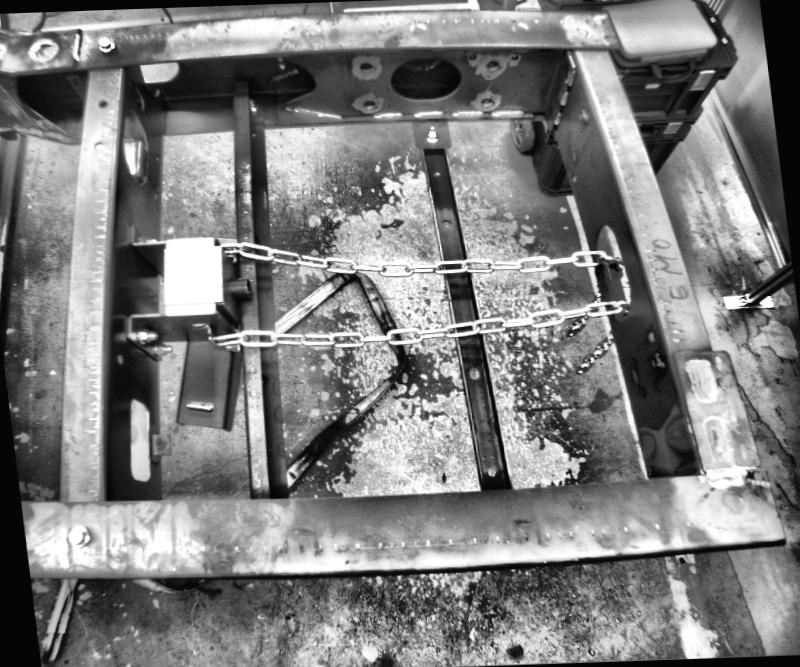bolt: (90, 29, 118, 55), (132, 326, 158, 343), (648, 351, 668, 371), (242, 95, 262, 111), (150, 340, 171, 355), (423, 121, 437, 141), (138, 231, 156, 245), (578, 109, 588, 123)
bracket: (590, 251, 616, 298), (146, 430, 172, 461)
hole: (382, 53, 466, 102), (118, 391, 152, 485), (118, 109, 150, 189), (130, 54, 186, 85), (353, 57, 374, 73), (361, 97, 377, 111), (482, 59, 499, 72), (478, 94, 494, 105), (466, 365, 479, 378), (438, 217, 450, 229), (113, 350, 124, 363), (485, 466, 497, 477), (90, 140, 102, 150), (644, 330, 656, 340), (95, 96, 106, 106), (431, 169, 440, 177), (154, 439, 164, 446)
welding: (546, 108, 562, 123), (562, 66, 576, 83), (554, 91, 570, 103)
